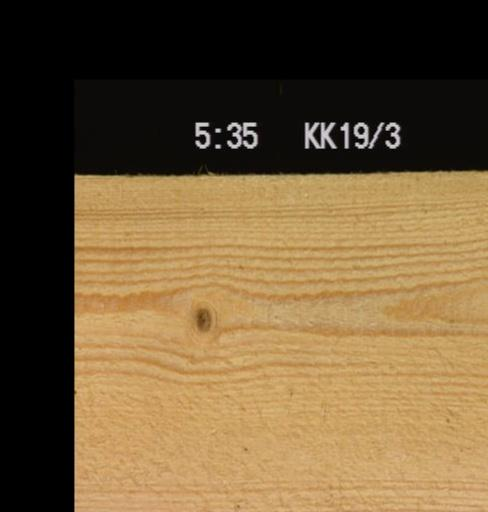sound_knot: (192, 304, 212, 331)
